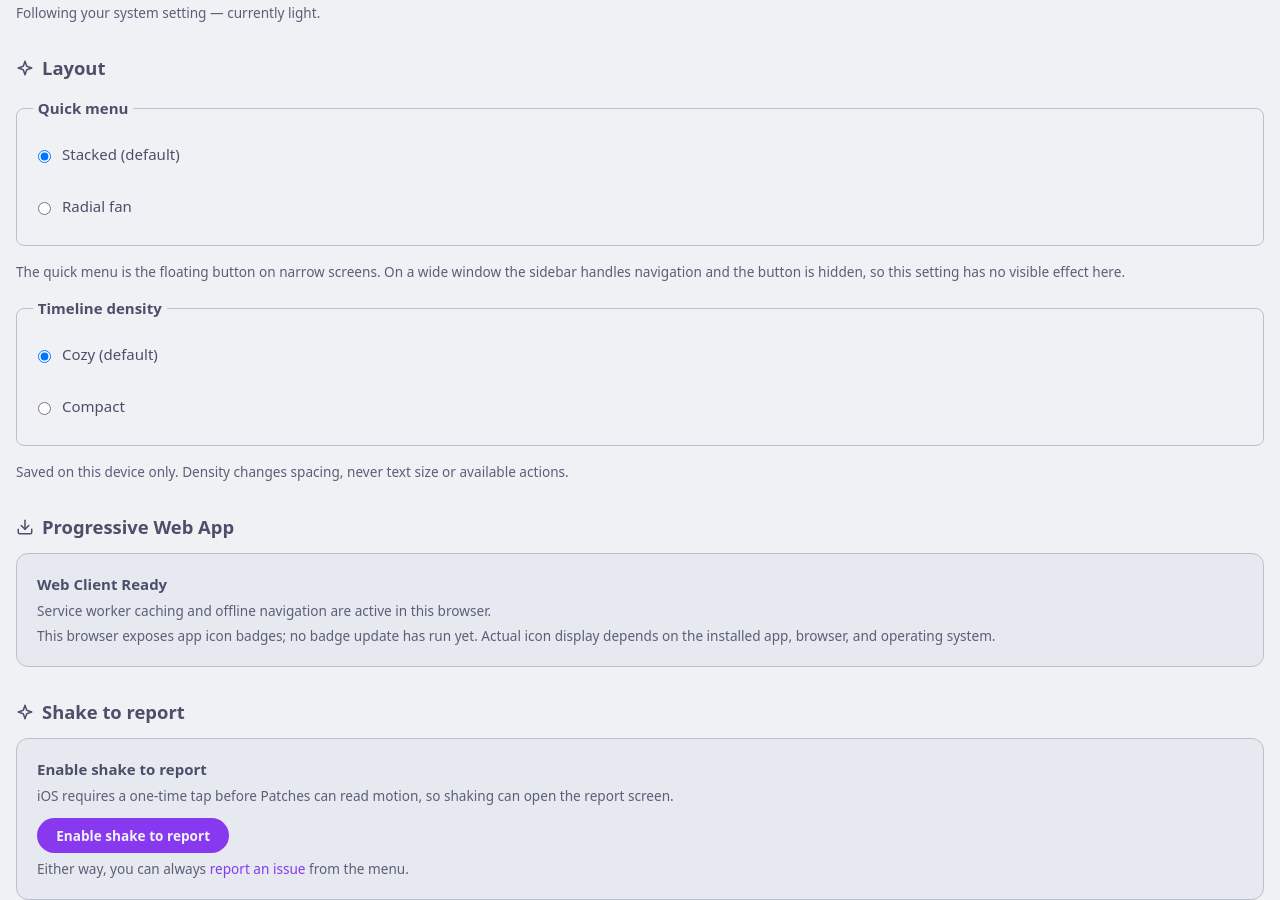
AppearanceSettingsRoute › honestly reports a denied permission and points at the always-available reporter — never a silent no-op
(page scrolled)
What coordinates should you click on to do the following:
click the button "Enable shake to report"
I would click on:
 (133, 836)
Its box is [37, 818, 229, 853].
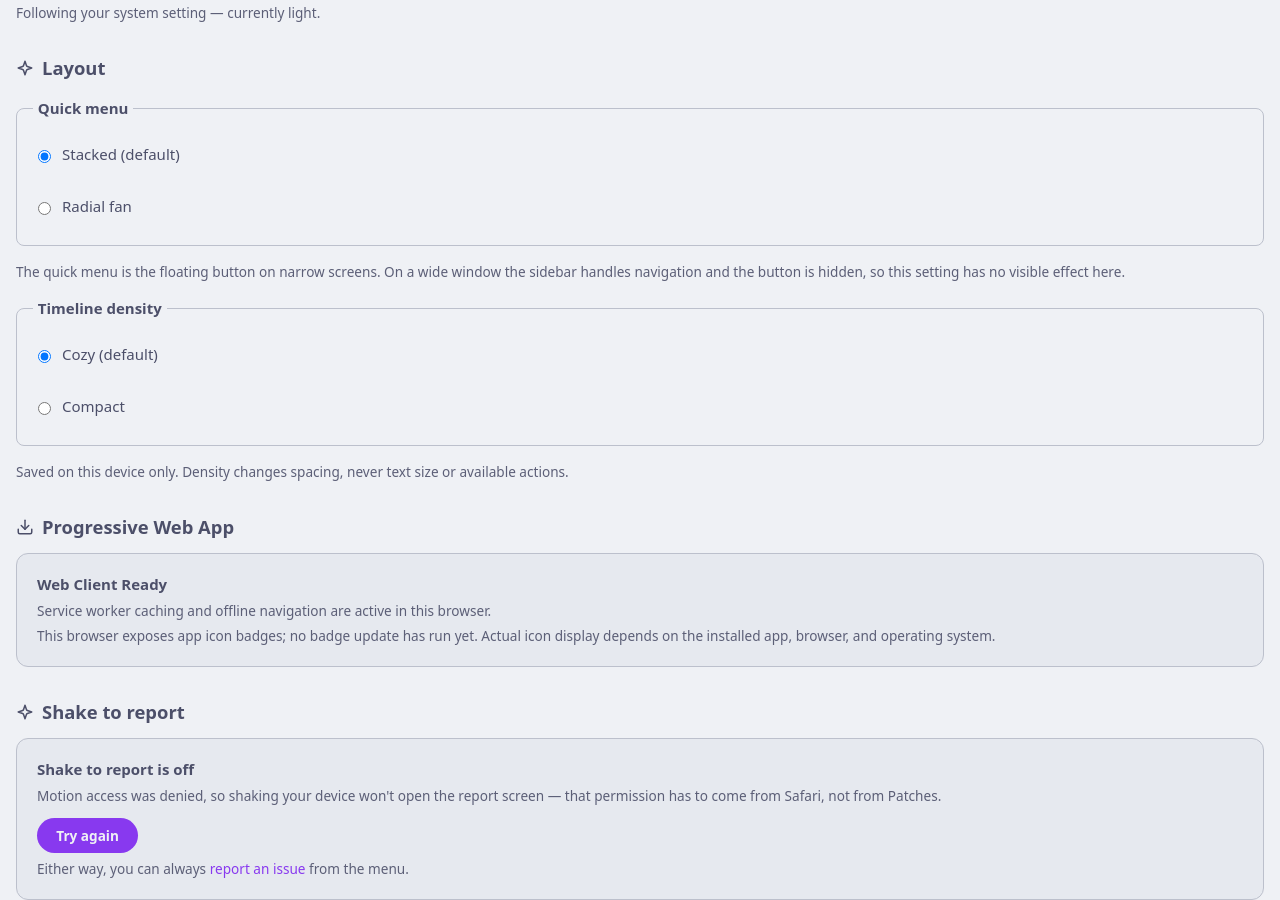
Check: the text "Shake to report is off" is shown, box [37, 759, 194, 779]
Check: the text "Motion access was denied" is shown, box [37, 786, 941, 805]
